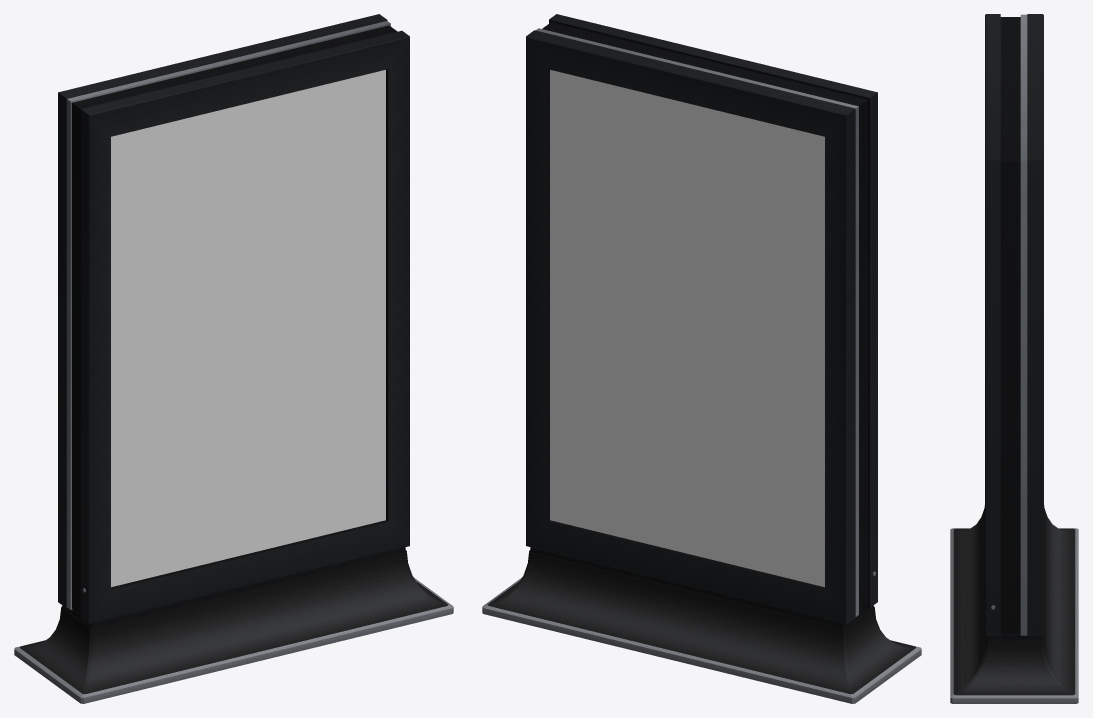
File: LightboxStand.fbx
3 renders of one model, left to right at view 1: azimuth 30°, elevation 25°; view 2: azimuth 150°, elevation 25°; view 3: azimuth 270°, elevation 25°, orthographic. The views are drawn at different scales.
Parts seen in each view (by area): view 1: LightboxStand; view 2: LightboxStand; view 3: LightboxStand.
Boxes of the visible parts, x1,y1,x2,y2 form: LightboxStand: (14,14,453,703); LightboxStand: (482,14,921,703); LightboxStand: (950,14,1078,703).
Bounding box in the file's own units: 144 × 210 × 46.
2 materials, 1 textured.
